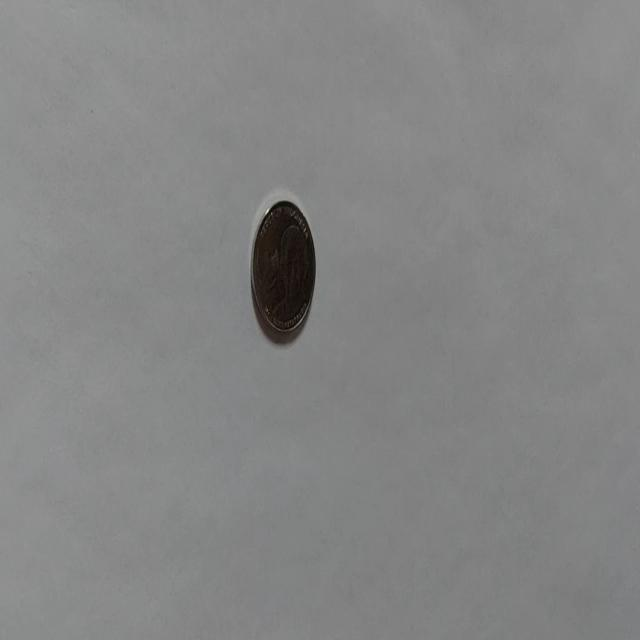seribu rupiah koin: (249, 196, 317, 340)
